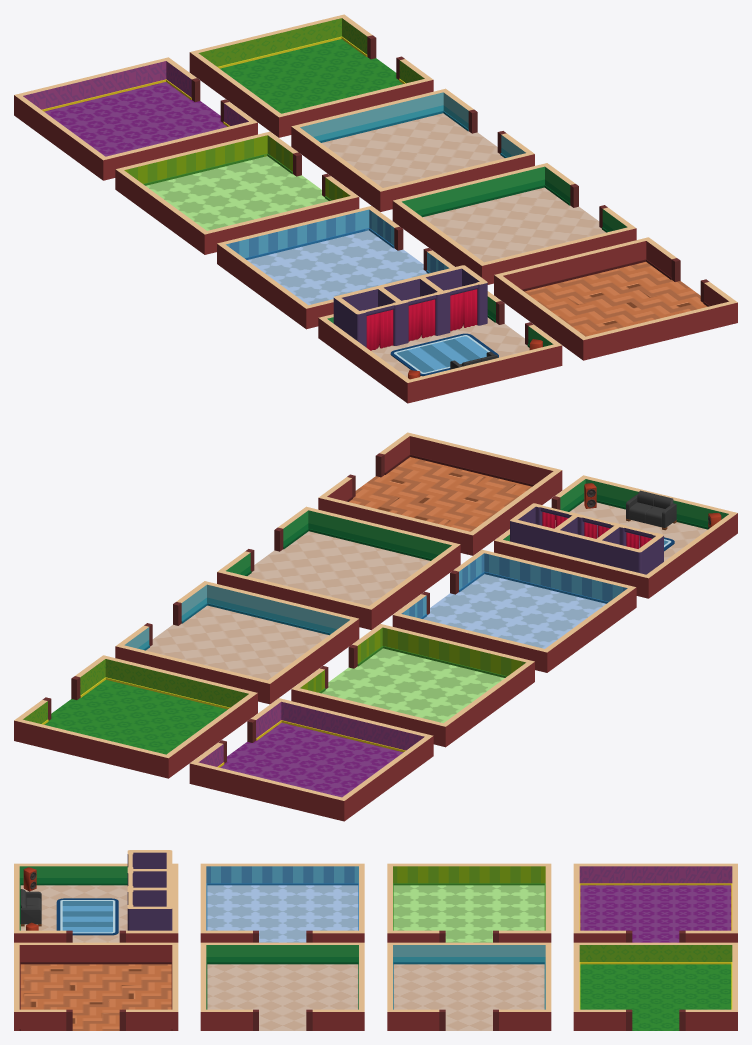
The model's file is Rooms.fbx.
3 views of the same model, one above another, from view 1: azimuth 30°, elevation 25°; view 2: azimuth 150°, elevation 25°; view 3: azimuth 270°, elevation 25° (orthographic). The views are drawn at different scales.
Visible parts, largest first — view 1: Plane.367, Plane.366, Plane.352, Plane.320, Plane.365, Plane.319, Plane.317, Plane.318; view 2: Plane.365, Plane.352, Plane.367, Plane.319, Plane.317, Plane.318, Plane.320, Plane.366; view 3: Plane.317, Plane.320, Plane.352, Plane.366, Plane.367, Plane.318, Plane.319, Plane.365.
Part boxes in pixels (box(x1,y1,x2,y2)): Plane.367: box(318, 265, 562, 403); Plane.366: box(494, 237, 737, 360); Plane.352: box(189, 14, 433, 137); Plane.320: box(291, 88, 534, 211); Plane.365: box(14, 57, 257, 180); Plane.319: box(115, 131, 359, 254); Plane.317: box(392, 163, 636, 284); Plane.318: box(217, 206, 454, 329); Plane.365: box(189, 698, 433, 821); Plane.352: box(14, 655, 257, 778); Plane.367: box(494, 475, 737, 598); Plane.319: box(291, 624, 534, 747); Plane.317: box(217, 506, 460, 629); Plane.318: box(392, 549, 636, 672); Plane.320: box(115, 581, 359, 704); Plane.366: box(318, 432, 562, 555); Plane.317: box(200, 942, 364, 1030); Plane.320: box(387, 942, 551, 1030); Plane.352: box(573, 942, 737, 1030); Plane.366: box(14, 942, 178, 1030); Plane.367: box(14, 850, 178, 942); Plane.318: box(200, 863, 364, 942); Plane.319: box(387, 863, 551, 942); Plane.365: box(573, 863, 737, 942).
Bounding box in the file's own units: 16.92 × 2 × 34.92.
